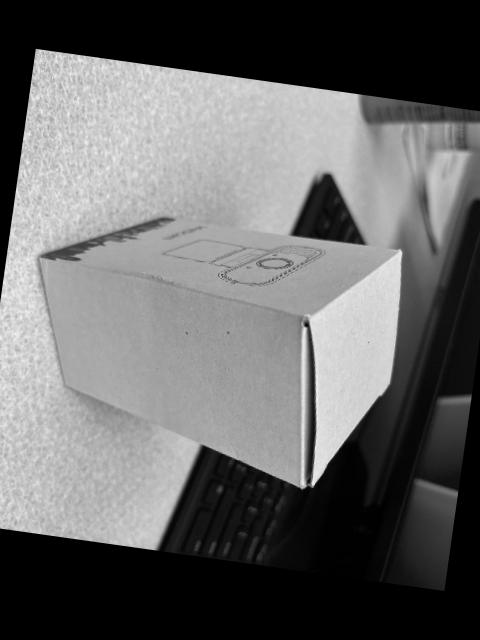CameraBox1: (34, 217, 401, 488)
